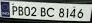character: (46, 6, 54, 17), (76, 8, 84, 18), (23, 5, 30, 16), (58, 7, 65, 18), (30, 6, 37, 16), (40, 6, 46, 17), (69, 8, 76, 17), (12, 5, 17, 15), (18, 5, 23, 15), (65, 7, 69, 18)
